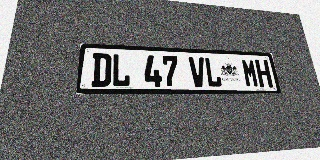4: (144, 55, 162, 87)
7: (161, 56, 179, 87)
D: (91, 53, 112, 87)
H: (255, 59, 273, 87)
L: (111, 54, 130, 87), (204, 57, 222, 87)
M: (241, 59, 260, 87)
V: (188, 57, 207, 87)
